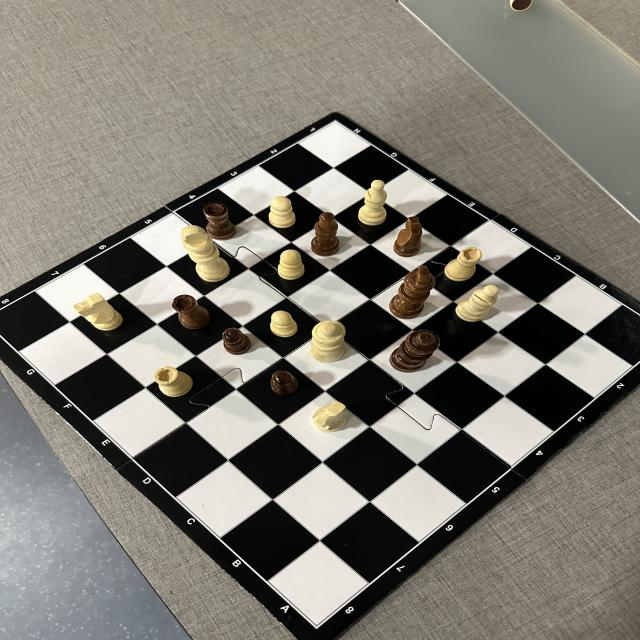Black-Bishop: (311, 212, 341, 256)
Black-King: (389, 266, 434, 318)
Black-Knight: (394, 217, 423, 257)
Black-Pawn: (222, 328, 252, 355), (270, 371, 298, 395)
Black-Queen: (389, 330, 440, 373)
Black-Rook: (172, 294, 210, 330), (204, 203, 236, 240)
White-Bishop: (455, 285, 500, 322), (358, 180, 387, 226)
White-King: (180, 225, 230, 282)
White-Knight: (73, 293, 123, 331), (313, 401, 347, 432)
White-Pawn: (268, 196, 296, 228), (278, 250, 304, 280), (270, 311, 298, 337)
White-Queen: (311, 320, 345, 362)
White-Rook: (446, 246, 482, 282), (154, 366, 194, 397)
